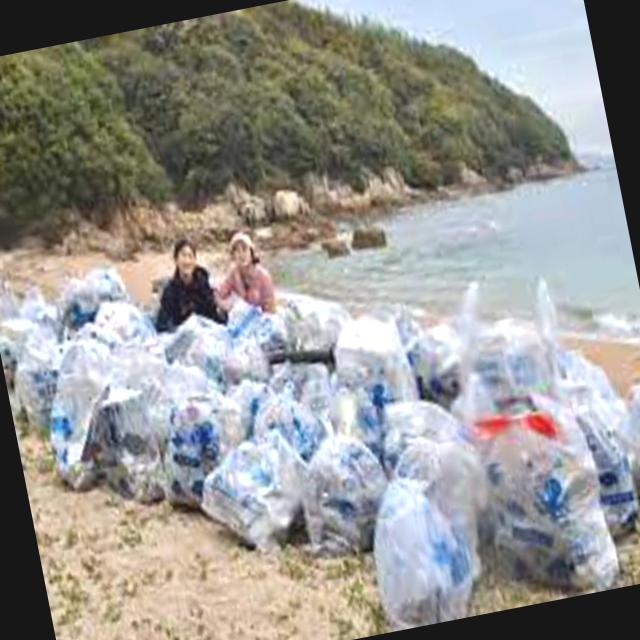garbage: (4, 283, 433, 590), (255, 343, 640, 640), (0, 233, 191, 500)
